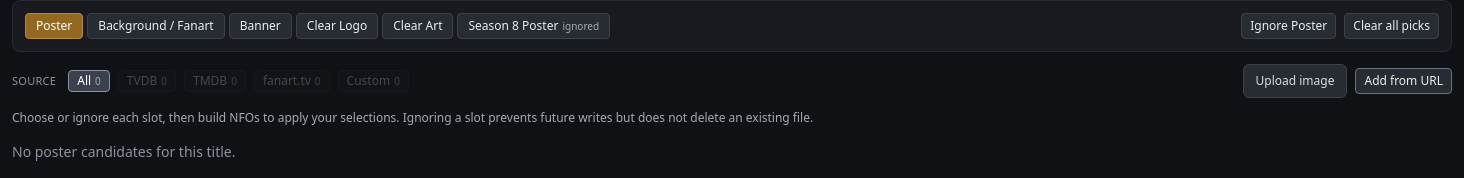
Test: keeps ignored season slots visible when providers stop returning them
Click the button "Season 8 Poster".
click(534, 26)  # box [458,13,610,39]
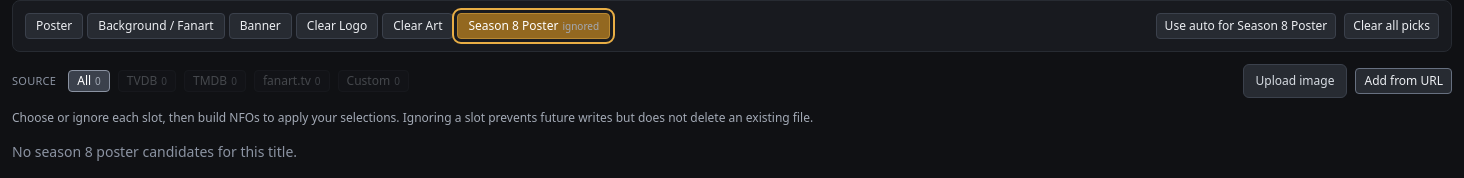
Now the button "Use auto for Season 8 Poster" is shown, box [1156,13,1336,39]
